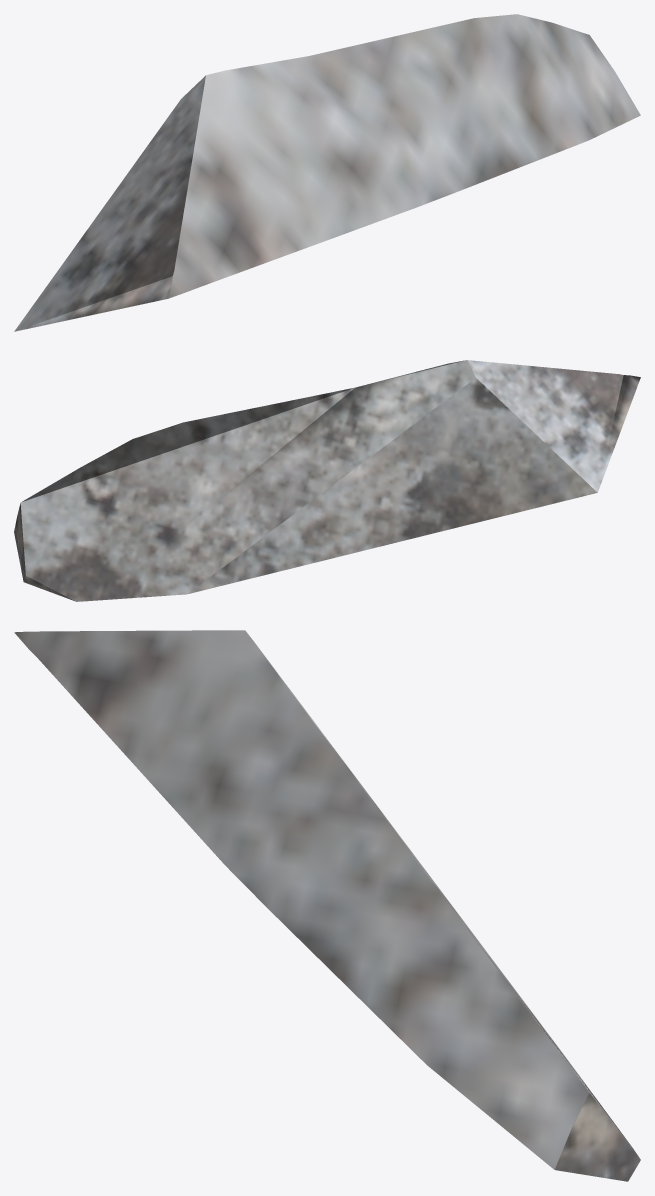
The model's file is Asteroid_Large_001_02_010_03_012.fbx.
3 views of the same model, one above another, from view 1: azimuth 30°, elevation 25°; view 2: azimuth 150°, elevation 25°; view 3: azimuth 270°, elevation 25° (orthographic). The views are drawn at different scales.
Visible parts, largest first — view 1: Asteroid_Large_001_02_010_03_012; view 2: Asteroid_Large_001_02_010_03_012; view 3: Asteroid_Large_001_02_010_03_012.
Part boxes in pixels (<box>): Asteroid_Large_001_02_010_03_012: <box>14,14,640,331</box>; Asteroid_Large_001_02_010_03_012: <box>14,360,640,601</box>; Asteroid_Large_001_02_010_03_012: <box>14,630,640,1181</box>.
Size of the model in its own units: 6.98 by 3 by 5.28.
